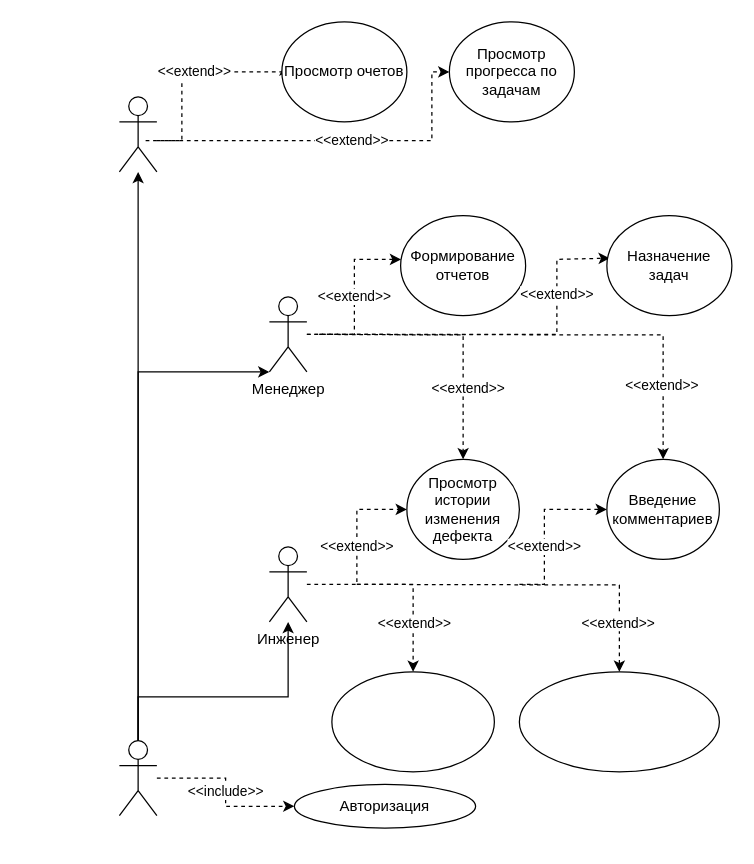
The diagram is 754 pixels wide and 864 high, and some of its shapes have lost their labels. The box of each missing label's shape, as (x1, y1, x2, y2) in pixels:
Заказчик: (118, 96, 157, 172)
Зарегистрировать дефект: (518, 671, 719, 772)
Изменение статуса задач: (331, 671, 494, 772)
Неавторизованный пользователь: (118, 739, 157, 816)
